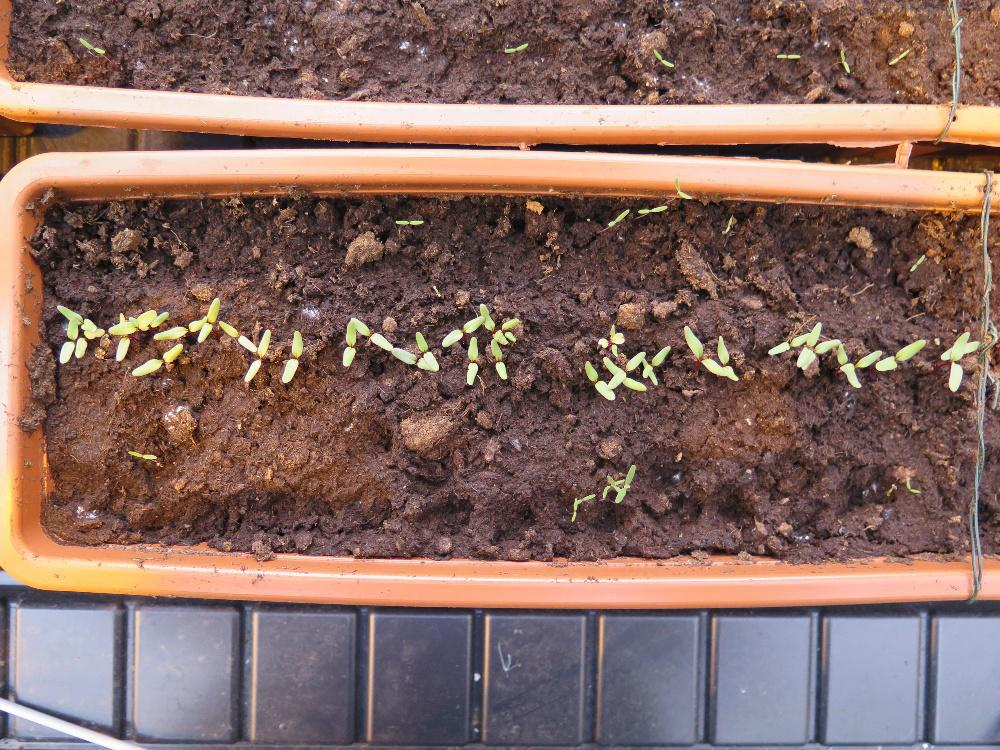crop: (128, 341, 183, 378), (279, 328, 303, 385), (463, 334, 478, 386)
weed: (76, 35, 106, 55), (671, 174, 693, 200), (605, 205, 630, 227), (651, 46, 675, 68), (886, 45, 909, 66), (125, 447, 157, 460), (636, 202, 668, 214), (907, 251, 925, 272), (500, 40, 528, 53), (390, 217, 424, 227), (721, 212, 733, 235), (839, 47, 849, 74), (773, 52, 802, 60)
